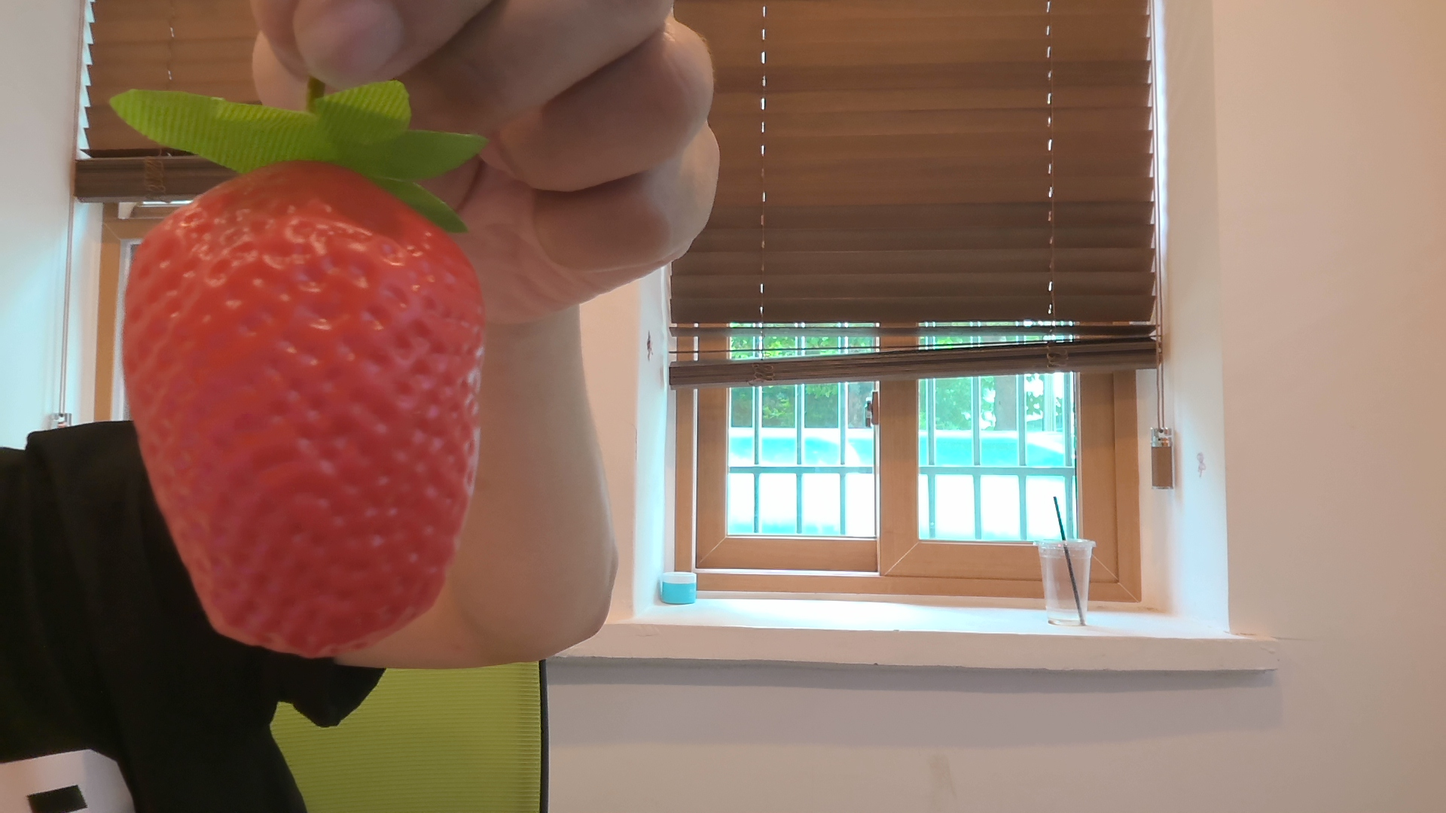strawberry: (98, 120, 496, 657)
